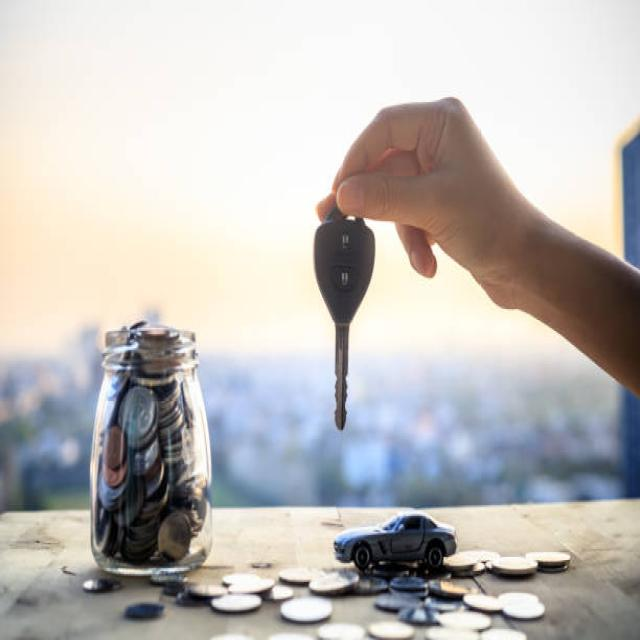Car: (333, 510, 457, 571)
